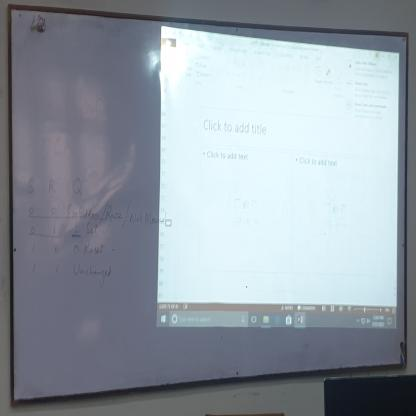Handwritten text: (27, 172, 84, 198), (73, 260, 115, 291), (127, 204, 170, 232), (67, 199, 102, 223), (105, 205, 125, 226), (83, 240, 106, 258), (86, 223, 101, 238)
Whiteboard: (5, 6, 409, 406)
